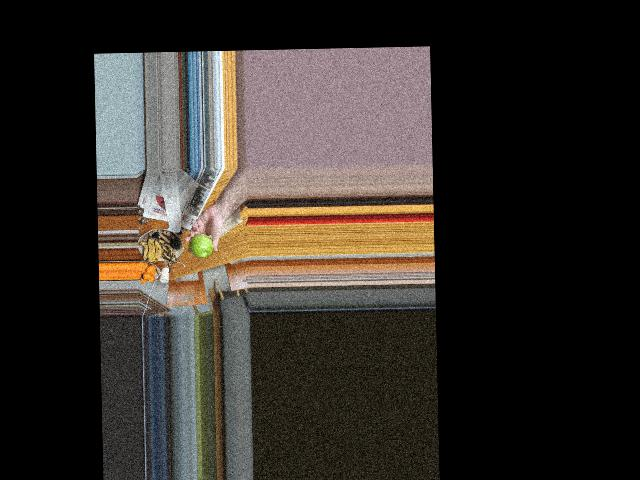apple: (189, 233, 213, 259)
